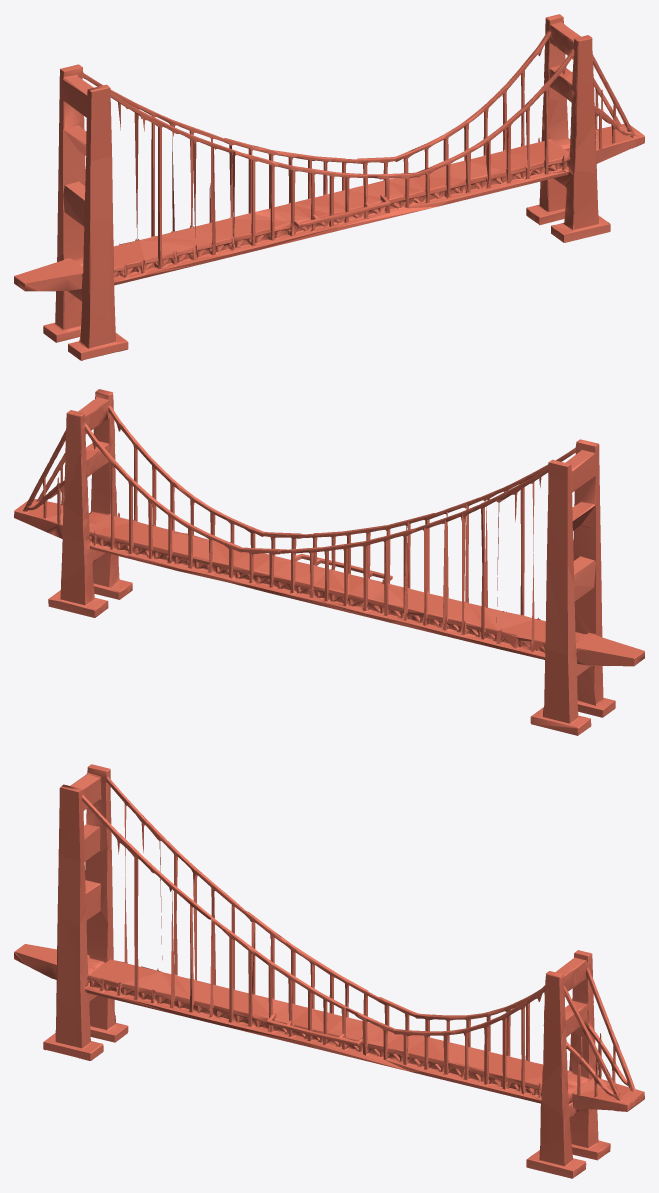
File: golden-gate.glb
3 renders of one model, top to bottom at view 1: azimuth 30°, elevation 25°; view 2: azimuth 150°, elevation 25°; view 3: azimuth 330°, elevation 25°, orthographic.
Visible parts, largest first — view 1: output_unwrapped; view 2: output_unwrapped; view 3: output_unwrapped.
Boxes of the visible parts, x1=… form: output_unwrapped: x1=14, y1=14, x2=644, y2=360; output_unwrapped: x1=14, y1=389, x2=644, y2=735; output_unwrapped: x1=14, y1=764, x2=644, y2=1178.
Size of the model in its own units: 1.9 by 0.7779 by 0.2029.
1 material, 1 textured.
